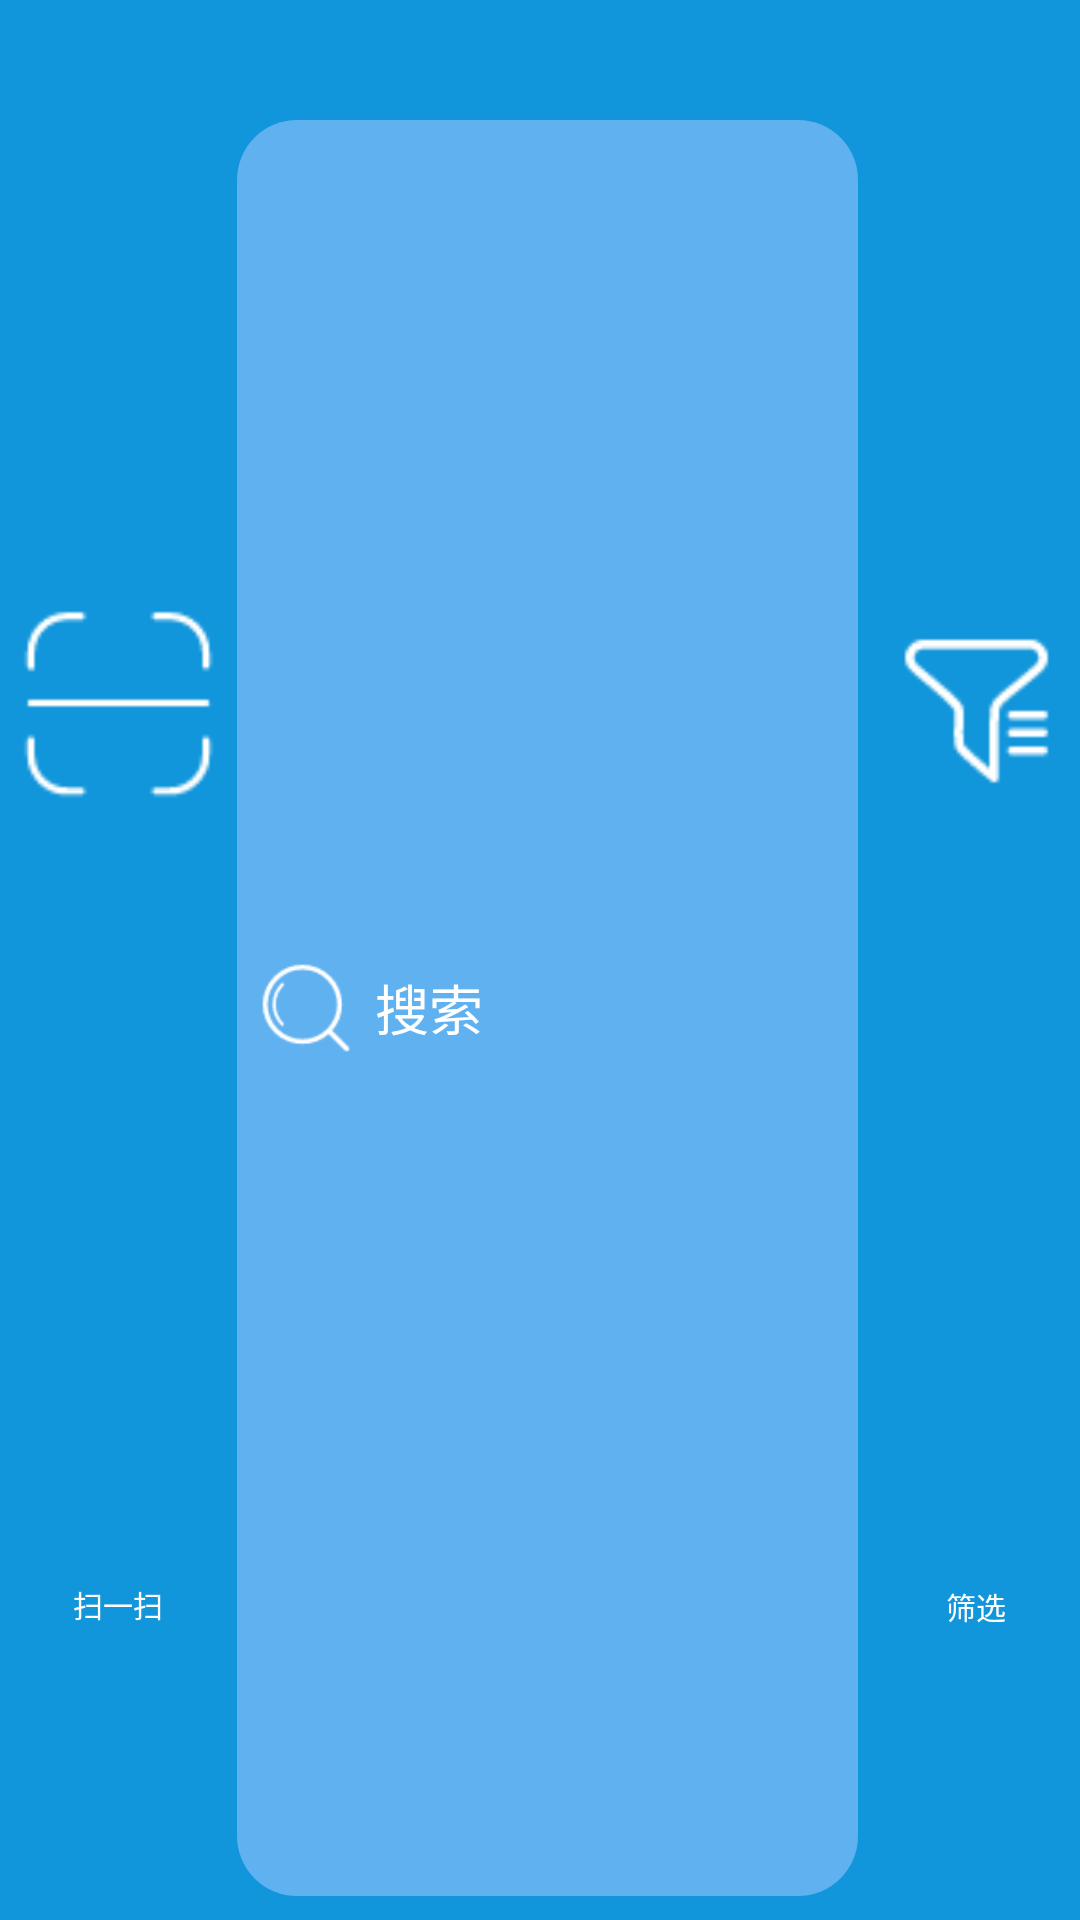

Icon bounding boxes for this 1080 × 1920 phone screenshot, format (x1, y1, x2, y2):
saoyisao: (24, 611, 213, 797)
search: (262, 964, 350, 1052)
shaixuan: (904, 639, 1049, 783)
